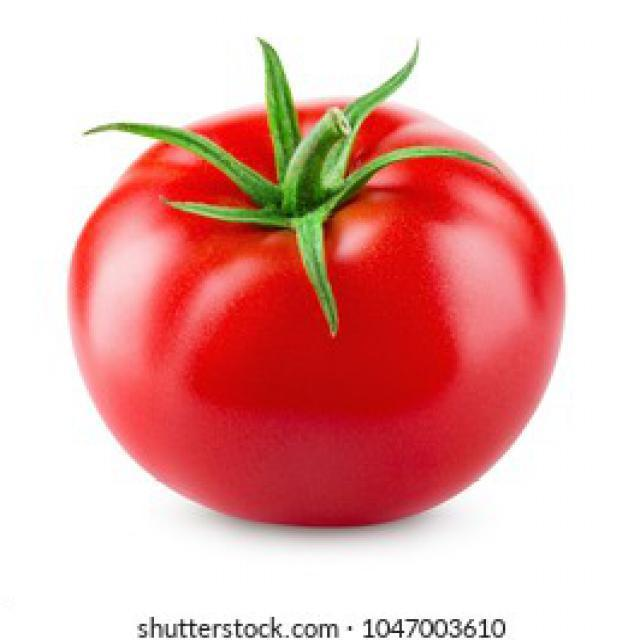Tomato: (66, 40, 568, 531)
